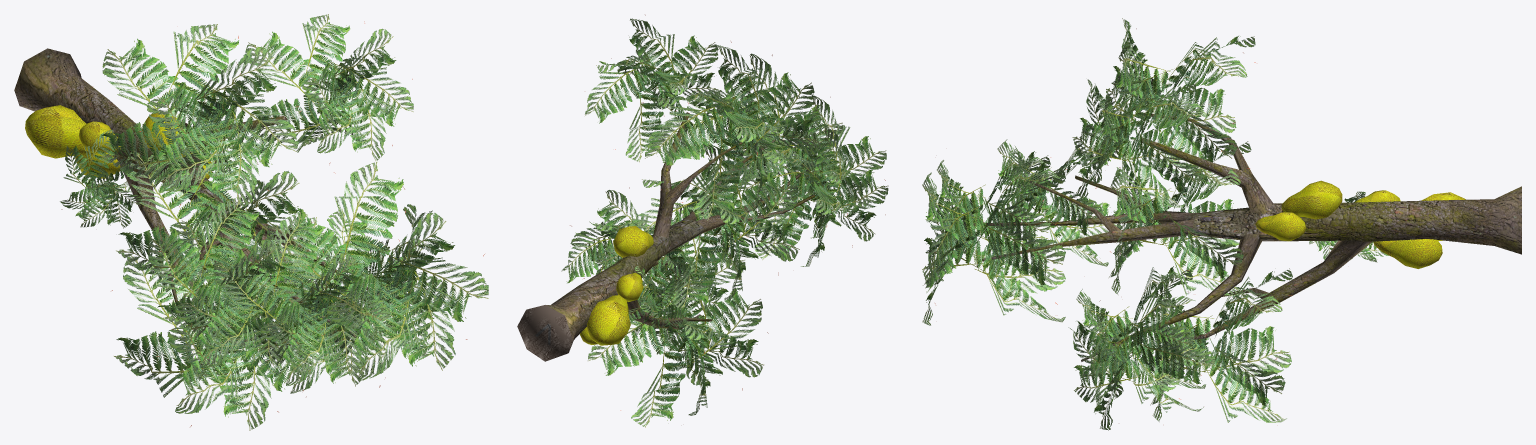
File: tree.obj
The picture shows the model from 3 angles, left to right: view 1: azimuth 30°, elevation 25°; view 2: azimuth 150°, elevation 25°; view 3: azimuth 270°, elevation 25°; orthographic projection. The views are drawn at different scales.
Parts seen in each view (by area): view 1: Plane.005_Plane.015, Plane.009, Plane.000_Plane.010, Plane.004_Plane.014, Plane.001_Plane.011, Plane.007_Plane.017, Plane.006_Plane.016, bark, Plane.008_Plane.018, Plane.003_Plane.013, Plane.002_Plane.012, Sphere.002 (+3 smaller); view 2: Plane.005_Plane.015, Plane.007_Plane.017, bark, Plane.006_Plane.016, Plane.004_Plane.014, Plane.001_Plane.011, Plane.009, Plane.000_Plane.010, Plane.003_Plane.013, Plane.002_Plane.012, Plane.008_Plane.018, Sphere.002 (+2 smaller); view 3: bark, Plane.009, Plane.005_Plane.015, Plane.007_Plane.017, Plane.004_Plane.014, Plane.002_Plane.012, Plane.006_Plane.016, Plane.003_Plane.013, Plane.001_Plane.011, Plane.000_Plane.010, Sphere.004, Sphere (+2 smaller).
Part boxes in pixels (bbox=[...]): Plane.005_Plane.015: bbox=[91, 24, 301, 207]; Plane.009: bbox=[261, 162, 488, 387]; Plane.000_Plane.010: bbox=[213, 212, 389, 390]; Plane.004_Plane.014: bbox=[239, 14, 413, 163]; Plane.001_Plane.011: bbox=[142, 196, 313, 373]; Plane.007_Plane.017: bbox=[112, 246, 311, 430]; Plane.006_Plane.016: bbox=[113, 133, 314, 321]; bark: bbox=[14, 48, 384, 343]; Plane.008_Plane.018: bbox=[60, 129, 142, 228]; Plane.003_Plane.013: bbox=[227, 217, 393, 396]; Plane.002_Plane.012: bbox=[284, 209, 448, 377]; Sphere.002: bbox=[25, 105, 95, 158]; Plane.005_Plane.015: bbox=[644, 42, 821, 220]; Plane.007_Plane.017: bbox=[588, 254, 768, 427]; bark: bbox=[517, 112, 814, 361]; Plane.006_Plane.016: bbox=[626, 144, 803, 309]; Plane.004_Plane.014: bbox=[585, 15, 720, 162]; Plane.001_Plane.011: bbox=[734, 125, 888, 266]; Plane.009: bbox=[654, 53, 843, 232]; Plane.000_Plane.010: bbox=[738, 95, 886, 238]; Plane.003_Plane.013: bbox=[594, 202, 745, 335]; Plane.002_Plane.012: bbox=[561, 187, 688, 325]; Plane.008_Plane.018: bbox=[627, 266, 687, 343]; Sphere.002: bbox=[586, 295, 630, 345]; bark: bbox=[964, 113, 1521, 361]; Plane.009: bbox=[922, 159, 1067, 325]; Plane.005_Plane.015: bbox=[1093, 18, 1255, 185]; Plane.007_Plane.017: bbox=[1150, 268, 1292, 422]; Plane.004_Plane.014: bbox=[1072, 79, 1211, 207]; Plane.002_Plane.012: bbox=[1068, 293, 1215, 430]; Plane.006_Plane.016: bbox=[1109, 141, 1251, 297]; Plane.003_Plane.013: bbox=[1076, 266, 1205, 405]; Plane.001_Plane.011: bbox=[993, 136, 1123, 266]; Plane.000_Plane.010: bbox=[937, 149, 1050, 281]; Sphere.004: bbox=[1281, 180, 1342, 219]; Sphere: bbox=[1373, 239, 1442, 268].
Bounding box in the file's own units: 6.01 × 7.2 × 10.31.
